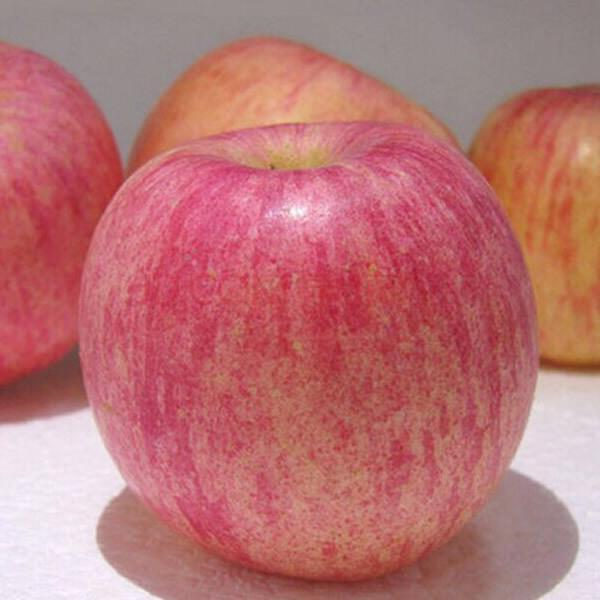apple: (72, 117, 536, 580)
